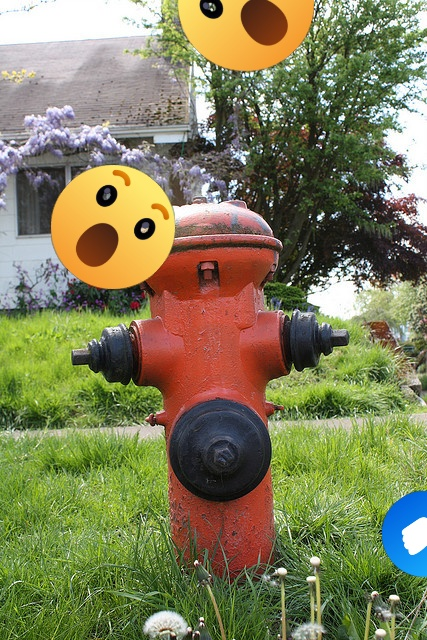like: (382, 491, 427, 577)
wow: (51, 165, 175, 289), (178, 0, 314, 71)
